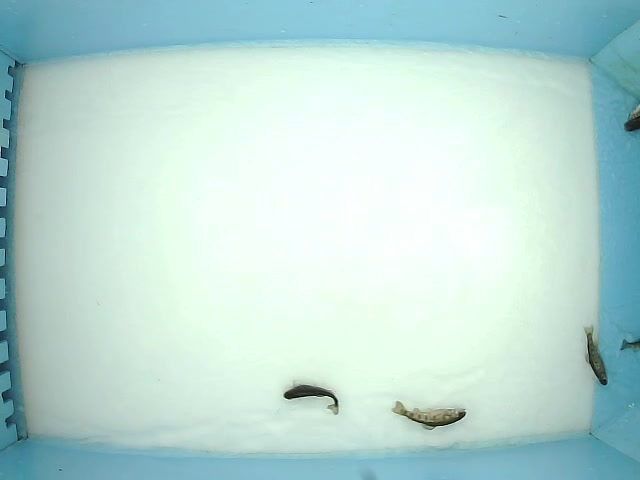fish: (390, 395, 468, 437), (281, 379, 340, 417), (583, 324, 609, 387)
